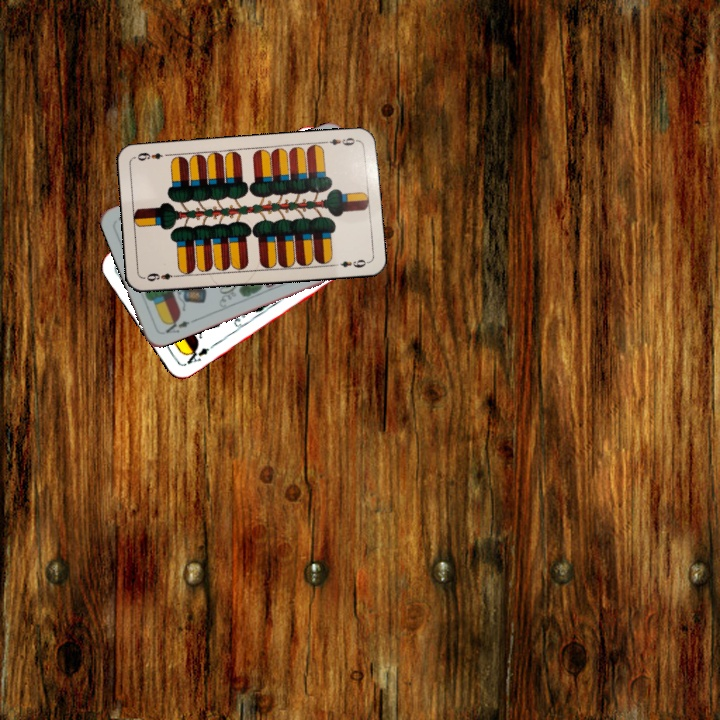E9: (320, 133, 361, 148), (143, 269, 181, 284)
EA: (161, 314, 198, 336), (180, 343, 211, 368)
